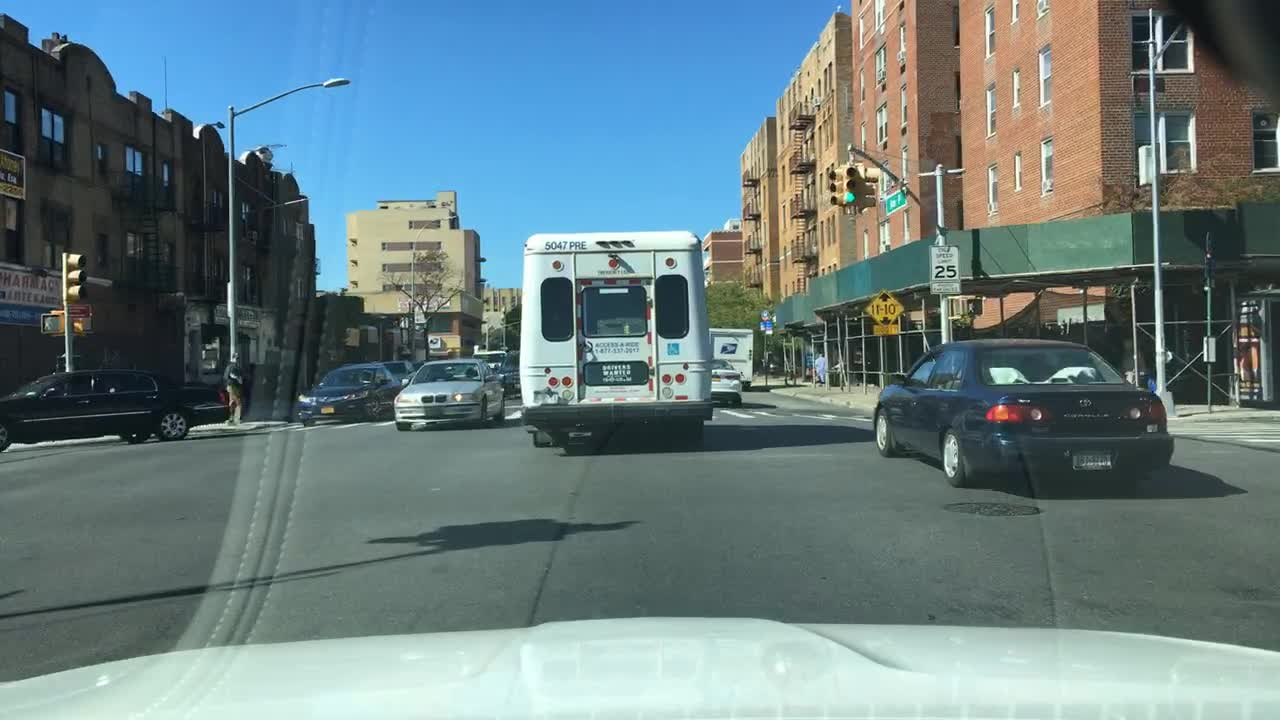bus: (520, 230, 709, 453)
car: (872, 341, 1173, 491), (0, 371, 230, 452), (393, 359, 505, 428), (296, 363, 400, 425), (707, 359, 742, 404), (366, 360, 412, 386)
person: (225, 351, 249, 428), (814, 354, 826, 384), (833, 360, 842, 385), (806, 354, 813, 381)
traffic light: (63, 256, 86, 302), (863, 160, 881, 209), (827, 166, 841, 203), (38, 314, 62, 335), (844, 163, 856, 205), (69, 314, 95, 333), (964, 293, 982, 316), (946, 298, 961, 317)
traffic sign: (865, 287, 904, 335), (929, 245, 956, 293), (880, 190, 904, 217), (1200, 336, 1218, 364), (759, 309, 771, 321), (765, 321, 776, 334)
truck: (706, 327, 752, 390), (470, 349, 521, 398)
